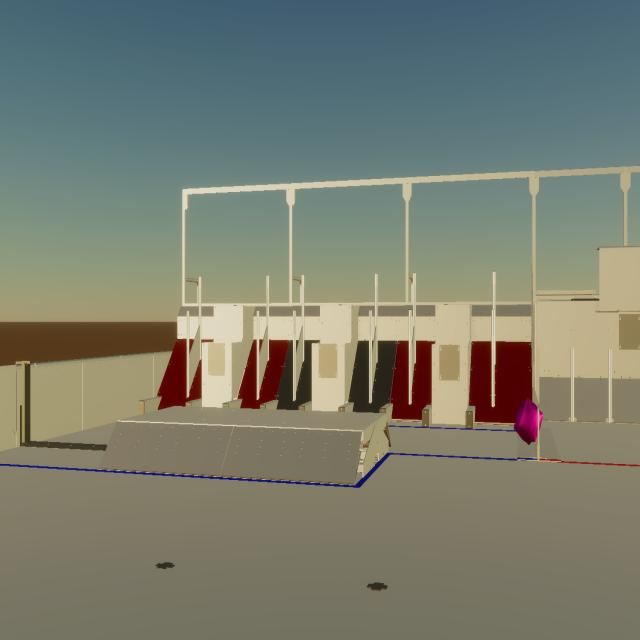frc_cube: (514, 398, 543, 445)
